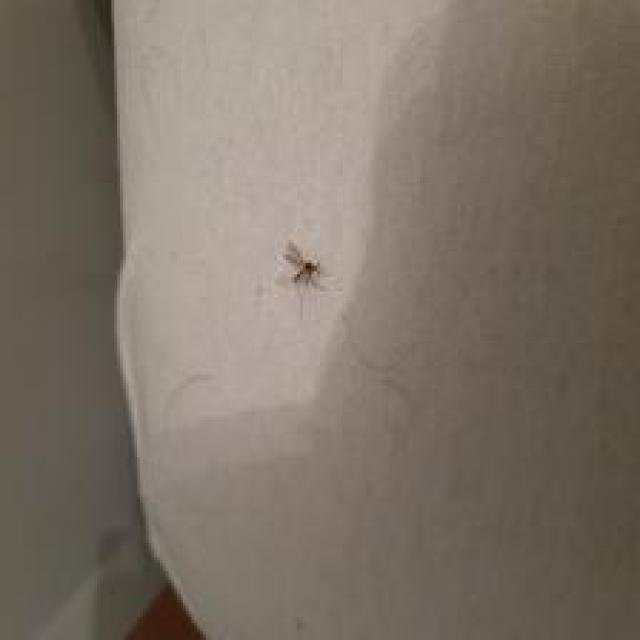Culex: (282, 239, 324, 290)
